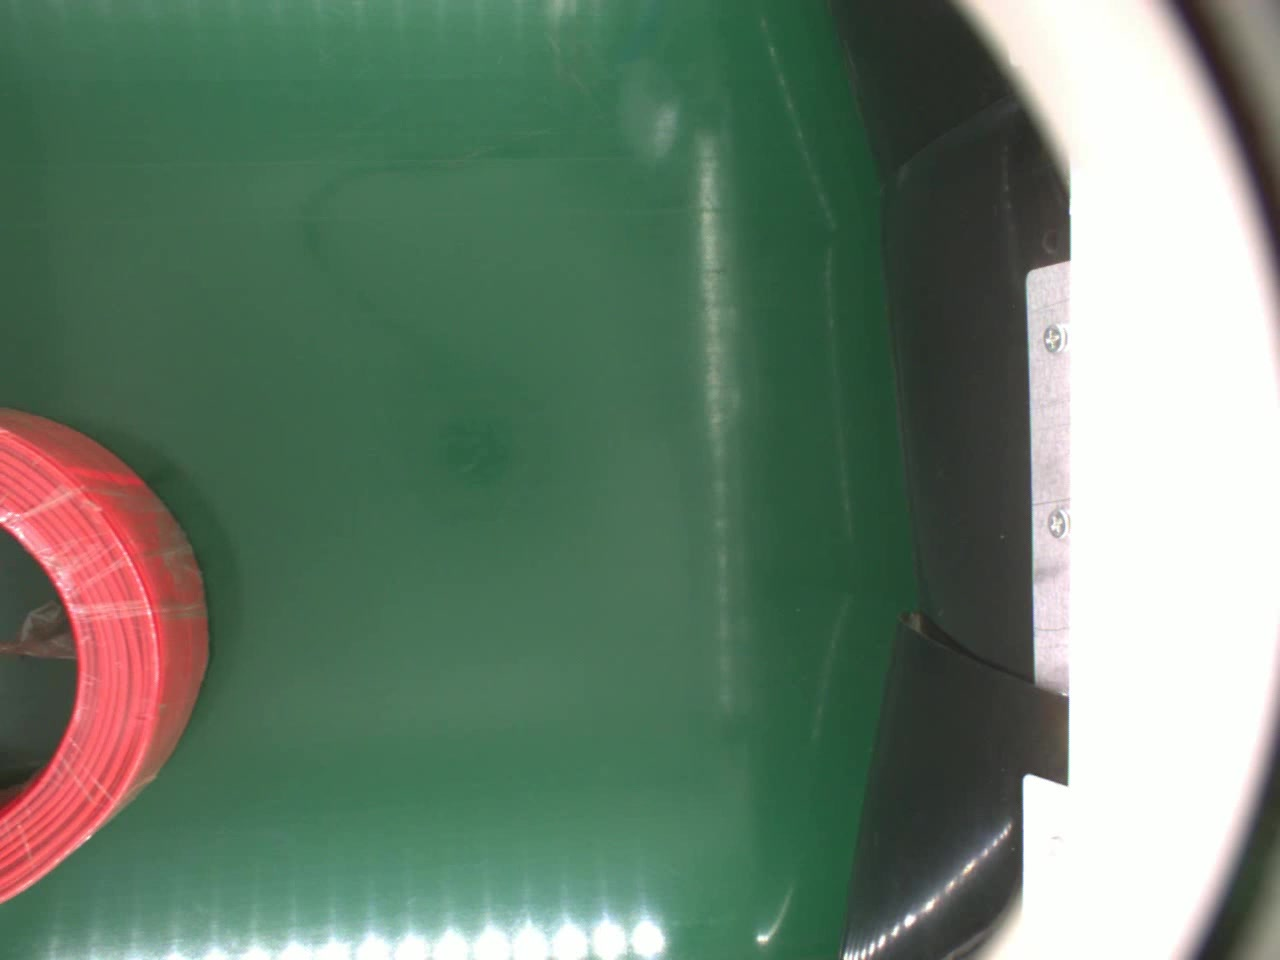red: (0, 407, 209, 907)
